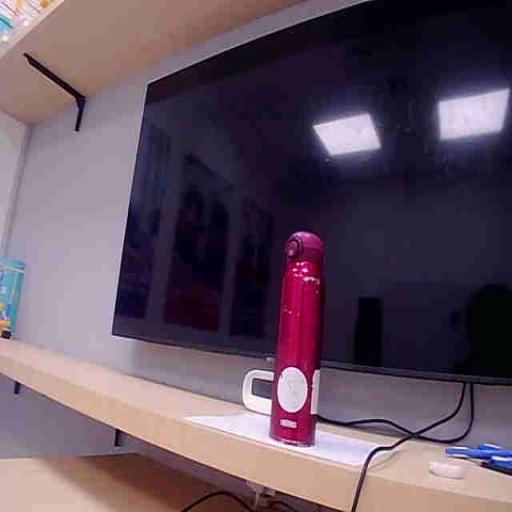bottle: (243, 232, 324, 445)
